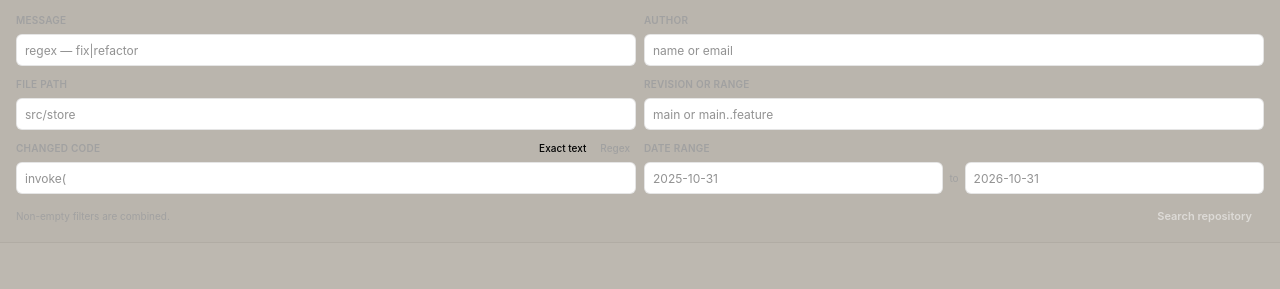
Scenario: AdvancedHistorySearch filter chips › flags an unparseable date instead of chip-ing or searching it
Type "2223213123" into the field named "Committed after".
click(794, 178); type("2223213123")  # box [644,162,943,194]
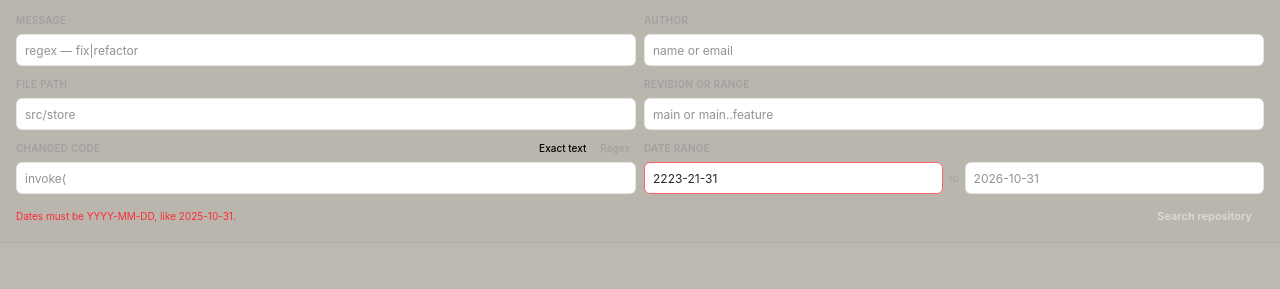
expect the button "Search repository" is disabled: met, box [1145,202,1264,230]
expect the text "Dates must be YYYY-MM-DD, like 2025-10-31." is shown: met, box [16,208,236,224]
Replace the text in the field named "Committed after" with "2025-07-15" at [794, 178], box [644,162,943,194]
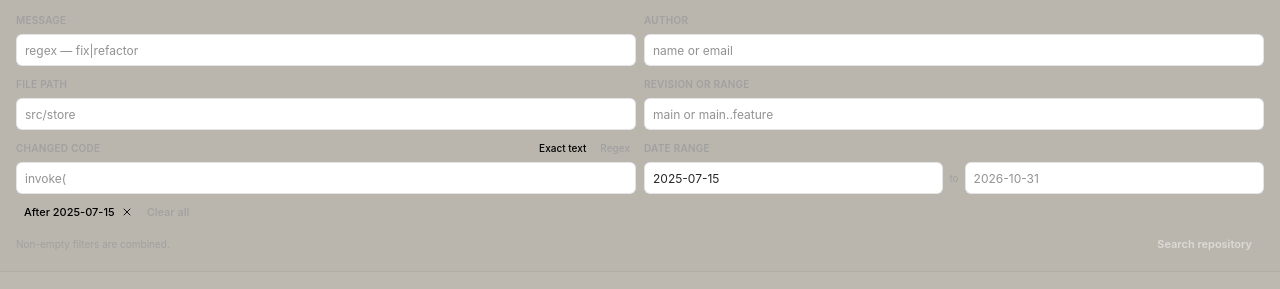
expect the button named "Remove After 2025-07-15 filter" is shown: met, box [119,204,135,220]
